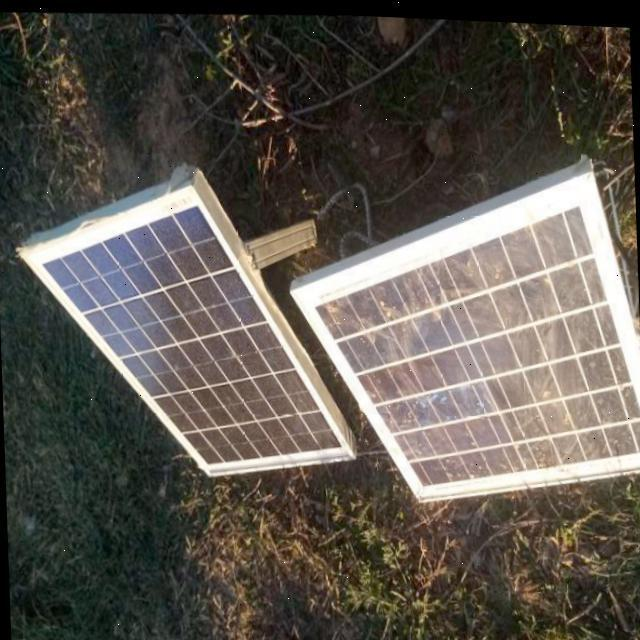Normal Solar Panel: (18, 168, 348, 482)
